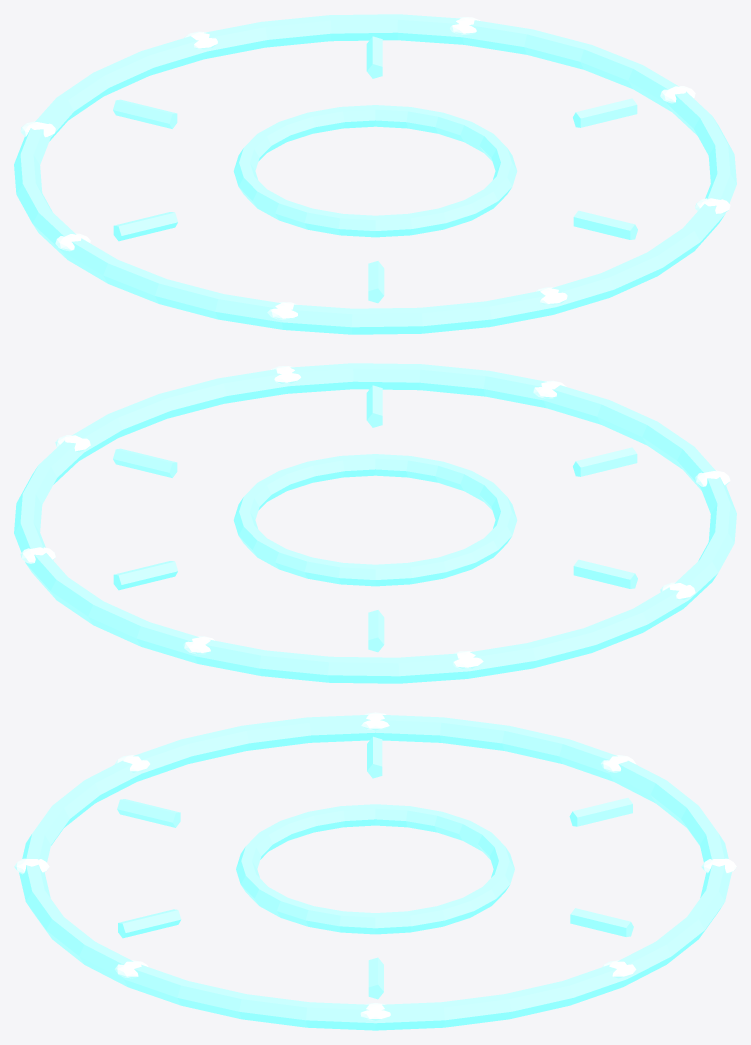
The model's file is forest_rune_circle.glb.
The picture shows the model from 3 angles, top to bottom: view 1: azimuth 30°, elevation 25°; view 2: azimuth 150°, elevation 25°; view 3: azimuth 270°, elevation 25°; orthographic projection.
Visible parts, largest first — view 1: Shrine magic circle, Shrine inner glyph circle, Radial shrine marking, Radial shrine marking.005, Radial shrine marking.002, Radial shrine marking.003, Radial shrine marking.001, Radial shrine marking.004; view 2: Shrine magic circle, Shrine inner glyph circle, Radial shrine marking.004, Radial shrine marking.003, Radial shrine marking, Radial shrine marking.001, Radial shrine marking.002, Radial shrine marking.005; view 3: Shrine magic circle, Shrine inner glyph circle, Radial shrine marking.004, Radial shrine marking.001, Radial shrine marking.005, Radial shrine marking.002, Radial shrine marking, Radial shrine marking.003.
Boxes of the visible parts, x1=… form: Shrine magic circle: x1=14, y1=14, x2=736, y2=334; Shrine inner glyph circle: x1=233, y1=105, x2=517, y2=237; Radial shrine marking: x1=573, y1=98, x2=637, y2=127; Radial shrine marking.005: x1=573, y1=210, x2=637, y2=239; Radial shrine marking.002: x1=113, y1=99, x2=177, y2=128; Radial shrine marking.003: x1=113, y1=212, x2=177, y2=241; Radial shrine marking.001: x1=366, y1=36, x2=382, y2=78; Radial shrine marking.004: x1=368, y1=261, x2=384, y2=303; Shrine magic circle: x1=14, y1=363, x2=736, y2=683; Shrine inner glyph circle: x1=233, y1=454, x2=517, y2=586; Radial shrine marking.004: x1=573, y1=447, x2=637, y2=476; Radial shrine marking.003: x1=573, y1=559, x2=637, y2=588; Radial shrine marking: x1=113, y1=448, x2=177, y2=477; Radial shrine marking.001: x1=113, y1=561, x2=177, y2=590; Radial shrine marking.002: x1=368, y1=610, x2=384, y2=652; Radial shrine marking.005: x1=366, y1=385, x2=382, y2=427; Shrine magic circle: x1=19, y1=715, x2=731, y2=1030; Shrine inner glyph circle: x1=236, y1=804, x2=514, y2=934; Radial shrine marking.004: x1=117, y1=799, x2=180, y2=827; Radial shrine marking.001: x1=570, y1=908, x2=633, y2=936; Radial shrine marking.005: x1=118, y1=909, x2=181, y2=938; Radial shrine marking.002: x1=569, y1=798, x2=632, y2=826; Radial shrine marking: x1=368, y1=957, x2=383, y2=999; Radial shrine marking.003: x1=367, y1=736, x2=382, y2=778.
Size of the model in its own units: 1.01 by 0.034 by 1.01.
